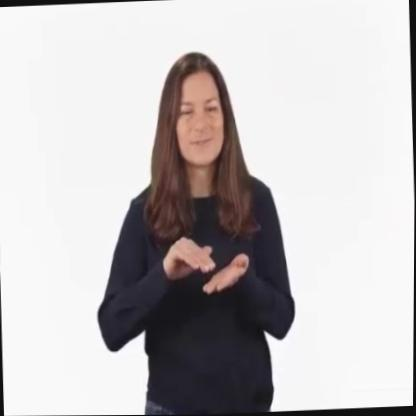ExcuseMe: (149, 216, 277, 329)
